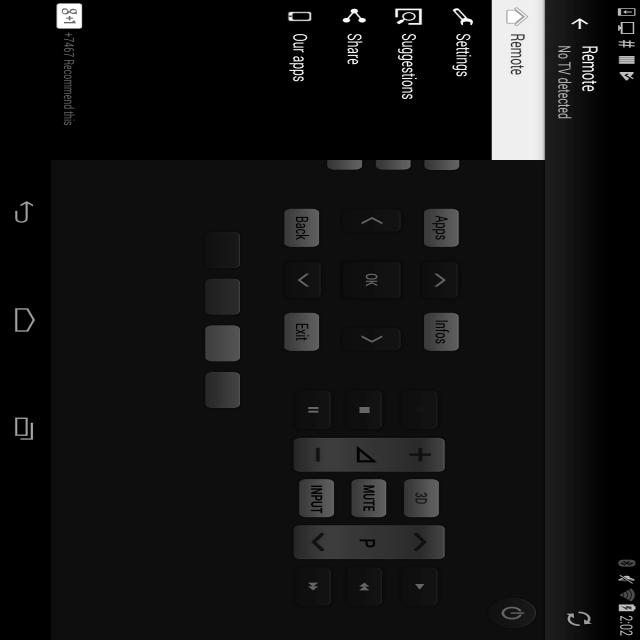ImageButton: (409, 143, 487, 192), (325, 143, 381, 192), (515, 143, 571, 192), (409, 193, 487, 228), (409, 108, 487, 142), (122, 138, 202, 171), (122, 168, 202, 201), (44, 138, 122, 171), (202, 138, 280, 171), (44, 168, 122, 201), (202, 168, 280, 201), (326, 195, 404, 228), (492, 195, 570, 228), (44, 108, 123, 140), (123, 108, 202, 140), (202, 108, 281, 140), (123, 199, 202, 231), (326, 108, 404, 140), (492, 108, 570, 140), (9, 17, 68, 59), (437, 245, 512, 277), (512, 245, 587, 277), (363, 245, 437, 277), (586, 244, 640, 277), (11, 65, 58, 95), (615, 120, 640, 155), (615, 155, 640, 190), (615, 190, 640, 218)
ImageView: (10, 66, 42, 86), (10, 100, 42, 120), (10, 134, 42, 154), (10, 168, 42, 188), (10, 202, 42, 222)
TextView: (52, 350, 201, 362), (54, 136, 160, 152), (72, 40, 191, 54), (72, 22, 146, 40), (54, 204, 132, 220), (54, 102, 124, 118), (53, 68, 120, 84), (54, 170, 104, 186)
